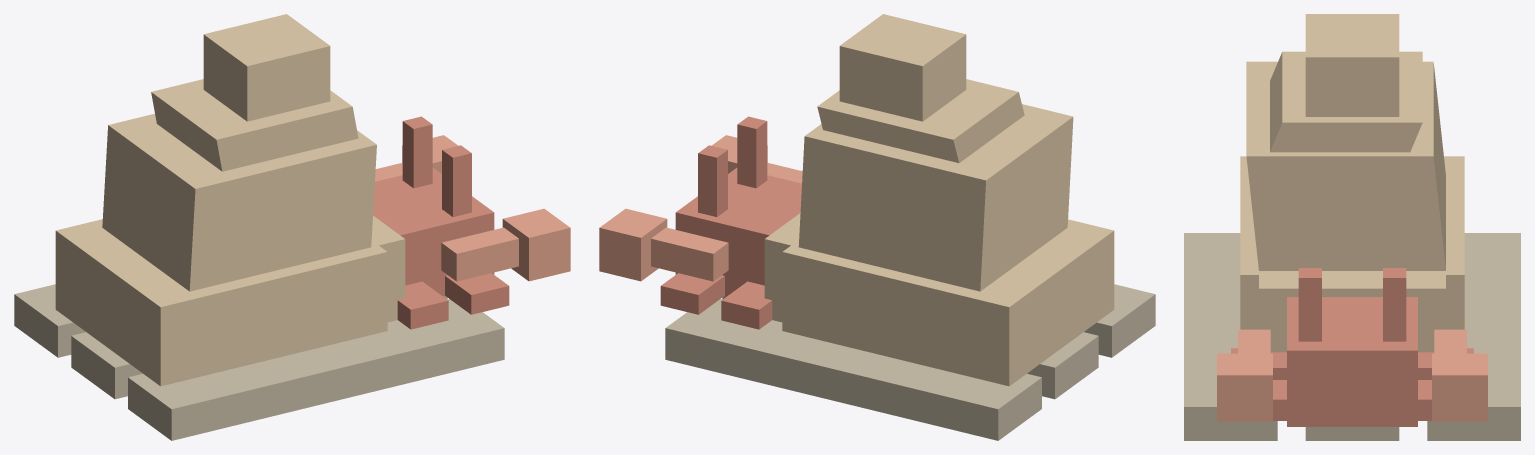
File: hy4_cangrejo_rojo_20261109.glb
3 views of the same model, side by side, from view 1: azimuth 30°, elevation 25°; view 2: azimuth 150°, elevation 25°; view 3: azimuth 270°, elevation 25° (orthographic). The views are drawn at different scales.
Parts seen in each view (by area): view 1: SM_Cangrejo_Concha_NOFUNDIR, SM_Cangrejo_Rodela_NOFUNDIR, SM_Cangrejo_Cuerpo_NOFUNDIR, SM_Cangrejo_Pinzas_NOFUNDIR; view 2: SM_Cangrejo_Concha_NOFUNDIR, SM_Cangrejo_Rodela_NOFUNDIR, SM_Cangrejo_Cuerpo_NOFUNDIR, SM_Cangrejo_Pinzas_NOFUNDIR; view 3: SM_Cangrejo_Concha_NOFUNDIR, SM_Cangrejo_Rodela_NOFUNDIR, SM_Cangrejo_Cuerpo_NOFUNDIR, SM_Cangrejo_Pinzas_NOFUNDIR.
Boxes of the visible parts, <box> form: SM_Cangrejo_Concha_NOFUNDIR: <box>55,14,405,386</box>; SM_Cangrejo_Rodela_NOFUNDIR: <box>14,284,504,440</box>; SM_Cangrejo_Cuerpo_NOFUNDIR: <box>373,116,509,329</box>; SM_Cangrejo_Pinzas_NOFUNDIR: <box>375,135,570,281</box>; SM_Cangrejo_Concha_NOFUNDIR: <box>764,14,1114,386</box>; SM_Cangrejo_Rodela_NOFUNDIR: <box>665,284,1155,440</box>; SM_Cangrejo_Cuerpo_NOFUNDIR: <box>660,116,801,329</box>; SM_Cangrejo_Pinzas_NOFUNDIR: <box>599,135,802,281</box>; SM_Cangrejo_Concha_NOFUNDIR: <box>1240,14,1464,352</box>; SM_Cangrejo_Rodela_NOFUNDIR: <box>1184,233,1520,440</box>; SM_Cangrejo_Cuerpo_NOFUNDIR: <box>1231,268,1473,426</box>; SM_Cangrejo_Pinzas_NOFUNDIR: <box>1217,329,1487,421</box>.
Bounding box in the file's own units: 0.5475 × 0.38 × 0.36.
